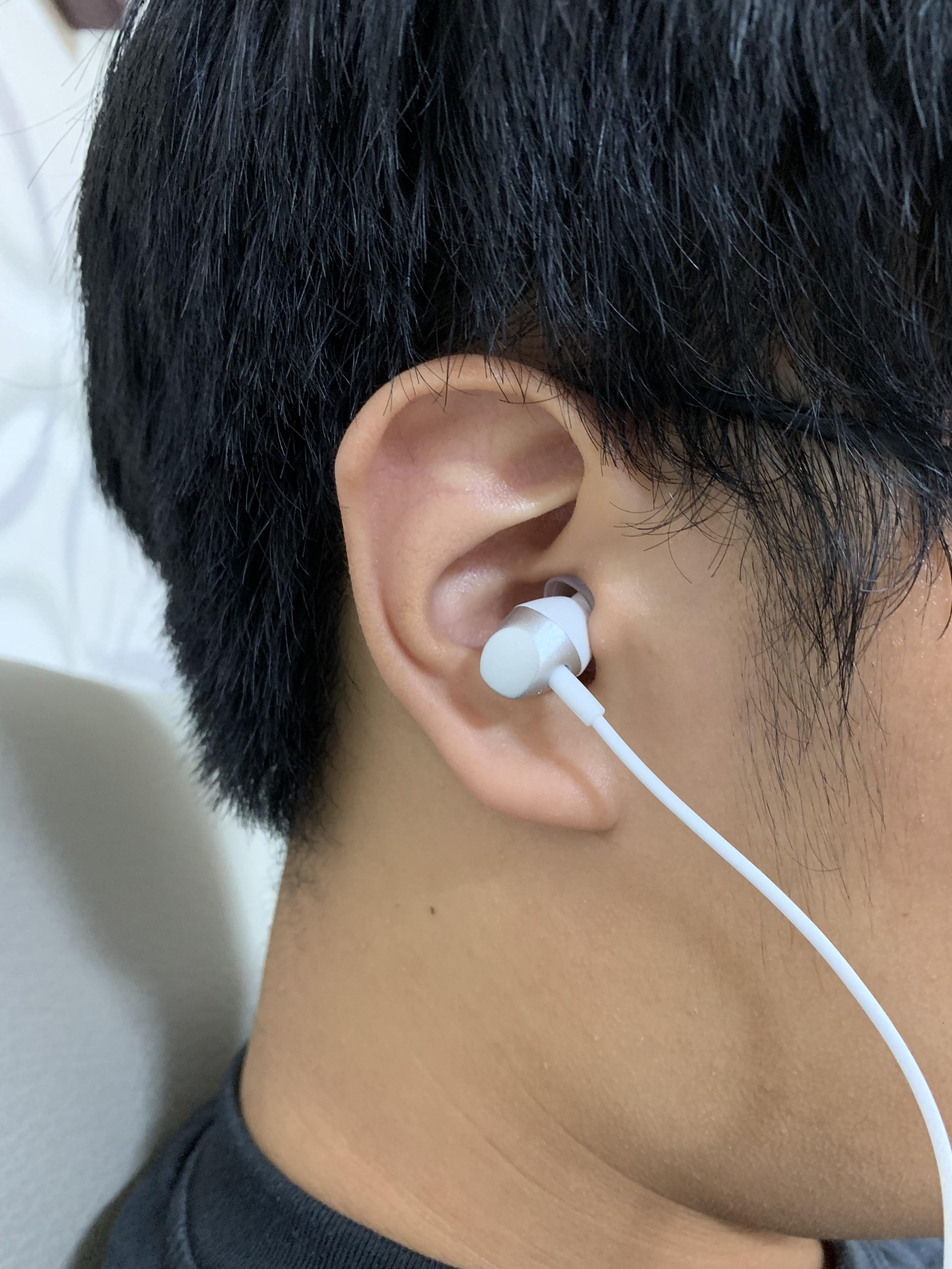earphone: (473, 583, 623, 712)
